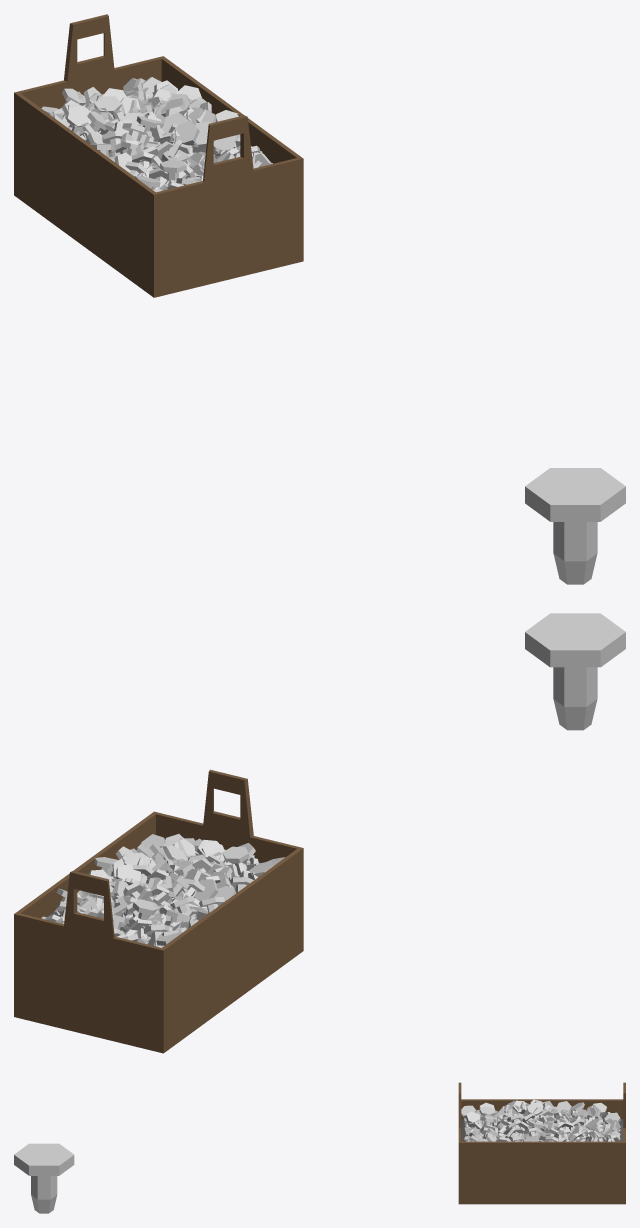
Rendered from neBoltBox.fbx.
3 views of the same model, one above another, from view 1: azimuth 30°, elevation 25°; view 2: azimuth 150°, elevation 25°; view 3: azimuth 270°, elevation 25° (orthographic). The views are drawn at different scales.
Parts seen in each view (by area): view 1: BOX, Bolt; view 2: BOX, Bolt; view 3: BOX, Bolt, BOXIN.
Part boxes in pixels (x1,y1,x2,y2): BOX: [14, 14, 303, 297]; Bolt: [525, 468, 625, 584]; BOX: [14, 769, 303, 1053]; Bolt: [525, 613, 625, 730]; BOX: [458, 1082, 625, 1204]; Bolt: [14, 1143, 74, 1213]; BOXIN: [461, 1117, 623, 1141].
Size of the model in its own units: 130 by 170 by 771.
